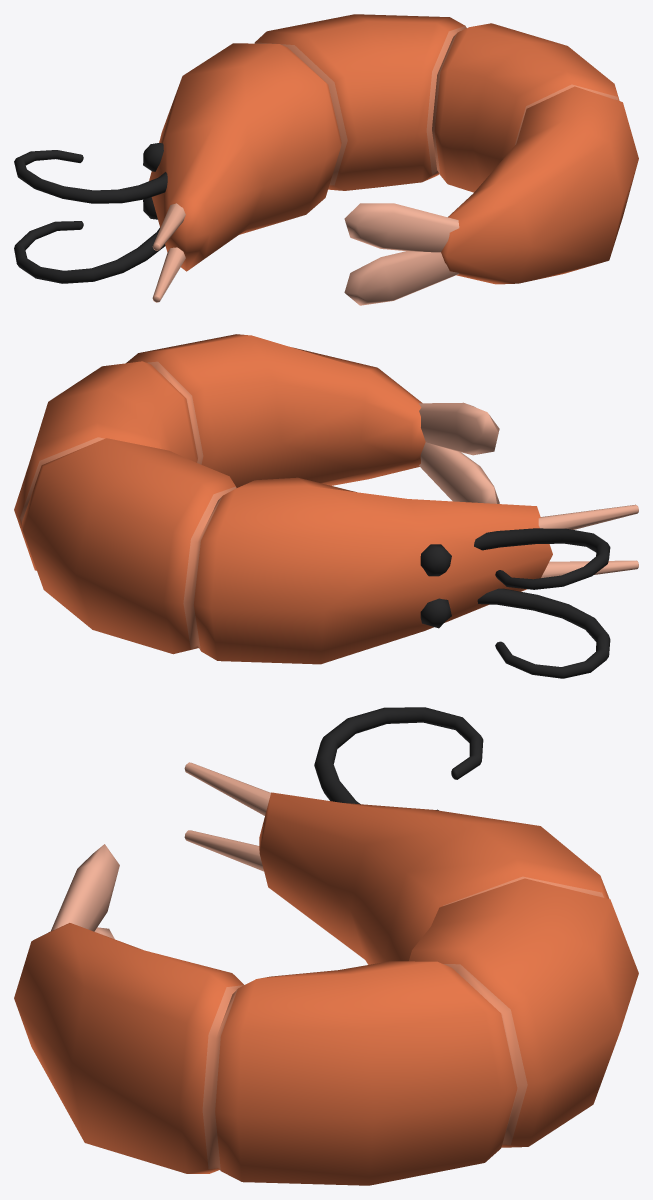
File: Shrimp.fbx
The picture shows the model from 3 angles, top to bottom: view 1: azimuth 30°, elevation 25°; view 2: azimuth 150°, elevation 25°; view 3: azimuth 270°, elevation 25°; orthographic projection. The views are drawn at different scales.
Visible parts, largest first — view 1: Shrimp; view 2: Shrimp; view 3: Shrimp.
Part boxes in pixels (bbox=[...]): Shrimp: bbox=[14, 14, 638, 305]; Shrimp: bbox=[14, 334, 638, 678]; Shrimp: bbox=[14, 707, 638, 1185].
Size of the model in its own units: 14.22 by 3.95 by 10.79.
